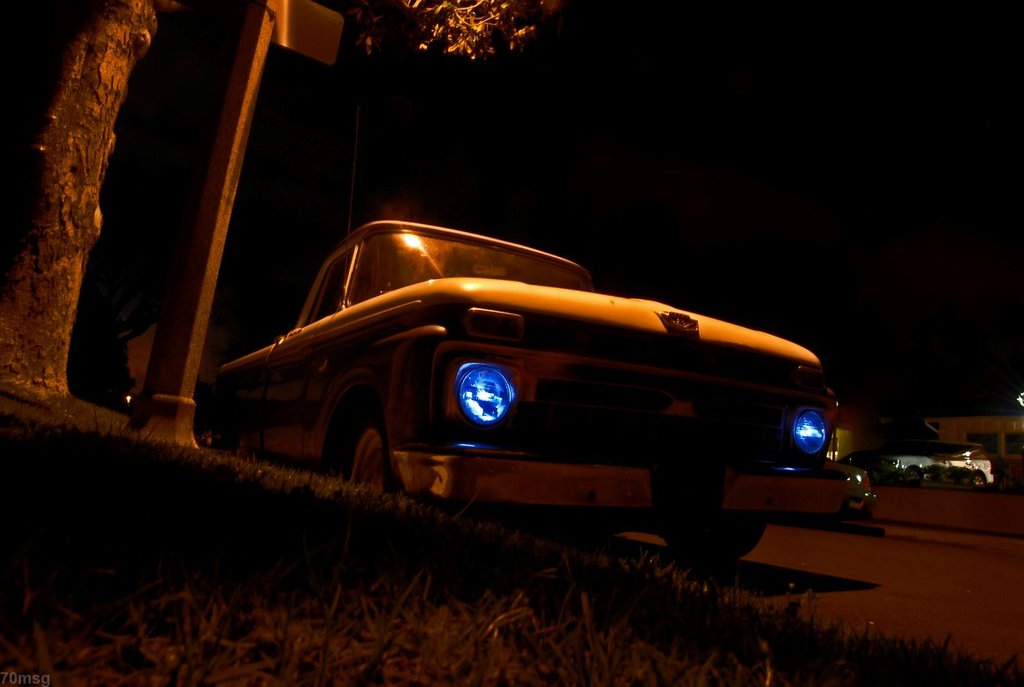car: (877, 432, 1003, 491)
